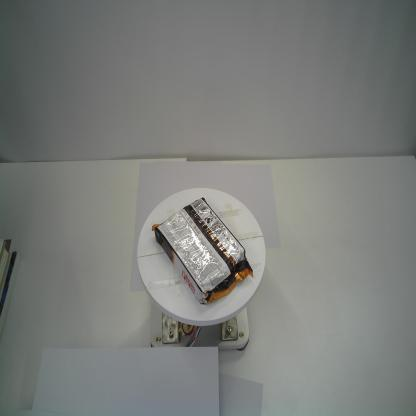Dessert: (150, 195, 254, 308)
